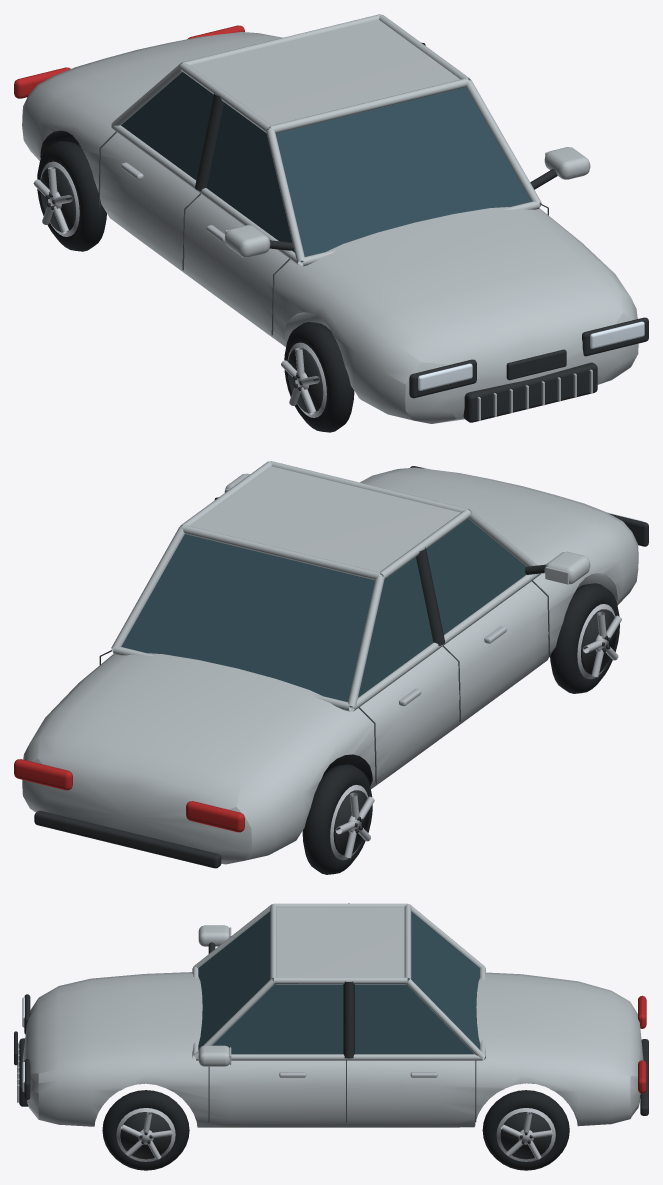
The model's file is vehicle-sedan-lod1.glb.
3 renders of one model, top to bottom at view 1: azimuth 30°, elevation 25°; view 2: azimuth 150°, elevation 25°; view 3: azimuth 270°, elevation 25°, orthographic. The views are drawn at different scales.
Parts seen in each view (by area): view 1: vehicle-sedan_MATERIAL_BATCH; view 2: vehicle-sedan_MATERIAL_BATCH; view 3: vehicle-sedan_MATERIAL_BATCH.
Boxes of the visible parts, x1=… form: vehicle-sedan_MATERIAL_BATCH: x1=14, y1=14, x2=648, y2=432; vehicle-sedan_MATERIAL_BATCH: x1=14, y1=461, x2=648, y2=874; vehicle-sedan_MATERIAL_BATCH: x1=14, y1=903, x2=648, y2=1170.
Bounding box in the file's own units: 2.32 × 1.48 × 4.74.
